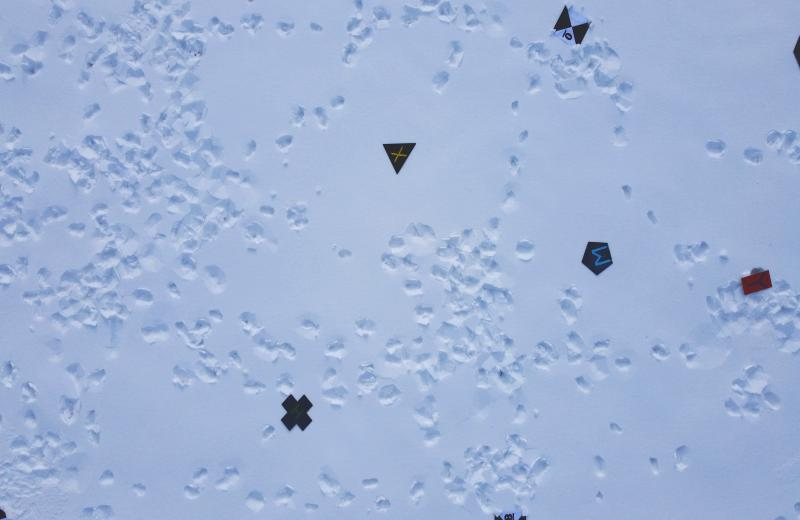Cross: (282, 393, 312, 432)
Rectangle: (741, 268, 774, 297)
Triangle: (582, 238, 614, 276), (384, 140, 416, 174)
